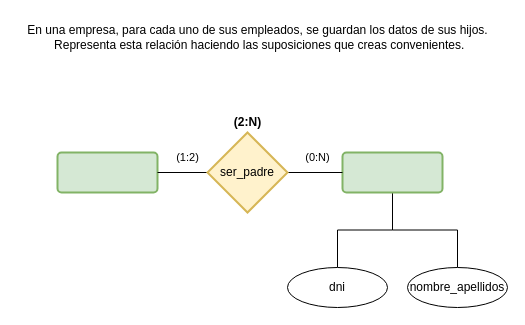
The diagram is 525 pixels wide and 325 high, and some of its shapes have lost their labels. Here are the shapes that lost their labels. From the top down, the box of each, then its label:
(56, 151, 158, 193): Empleado
(341, 151, 443, 193): Hijo
